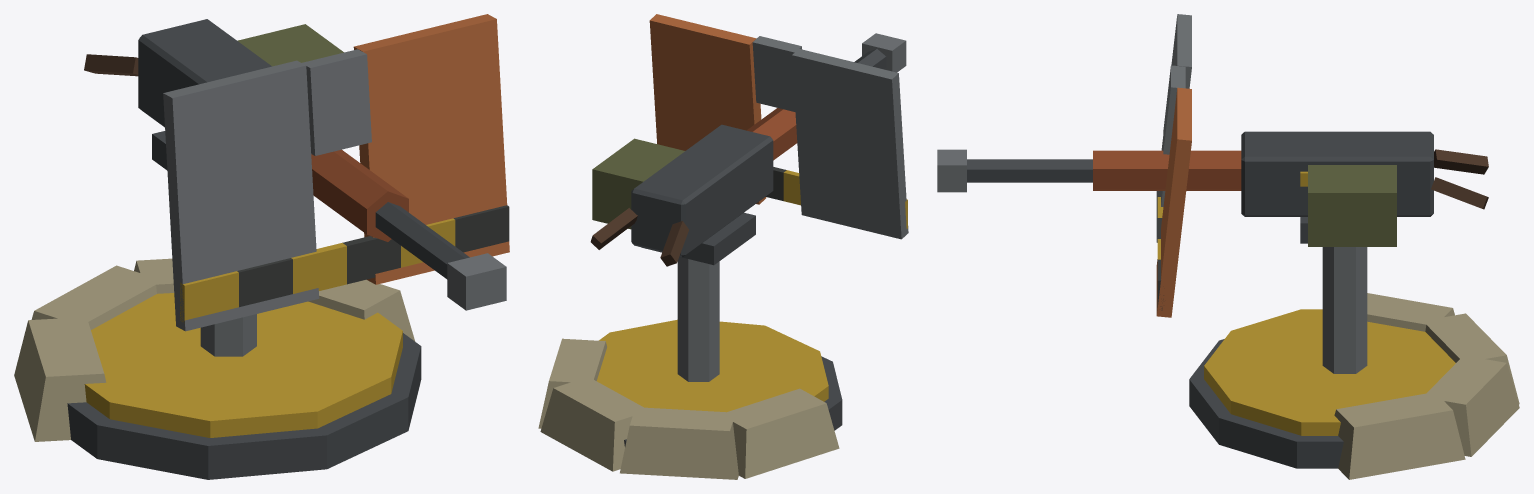
The model's file is upg_roof_turret.glb.
The picture shows the model from 3 angles, left to right: view 1: azimuth 30°, elevation 25°; view 2: azimuth 150°, elevation 25°; view 3: azimuth 270°, elevation 25°; orthographic projection. The views are drawn at different scales.
Visible parts, largest first — view 1: roof_turret; view 2: roof_turret; view 3: roof_turret.
Part boxes in pixels (box(x1,y1,x2,y2)): roof_turret: box(14, 14, 509, 479); roof_turret: box(538, 14, 908, 479); roof_turret: box(937, 14, 1519, 479).
Bounding box in the file's own units: 0.9431 × 0.9815 × 1.57.
